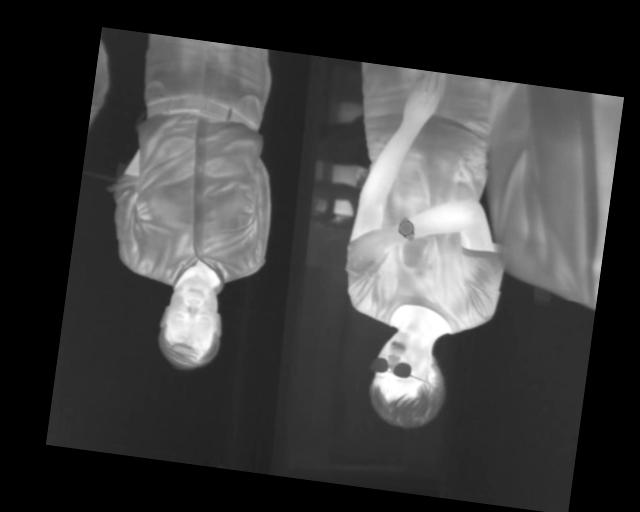face: (364, 325, 453, 433), (151, 272, 229, 376)
